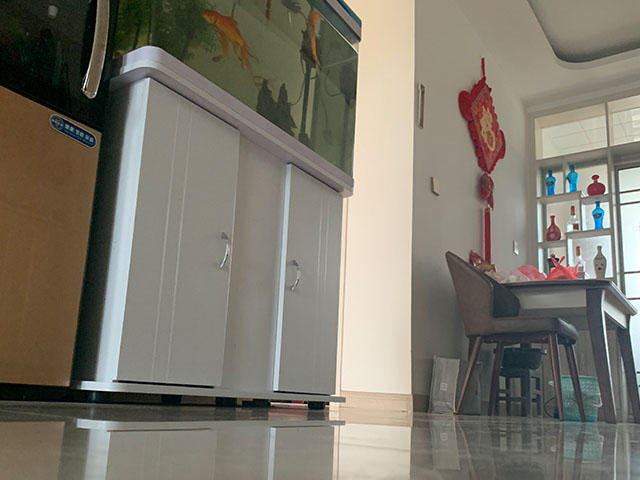cabinet: (79, 46, 356, 409)
stool: (444, 250, 590, 424)
table: (497, 278, 640, 426)
